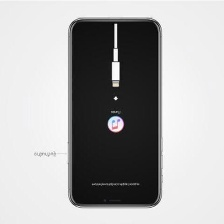phone: (63, 12, 167, 210)
